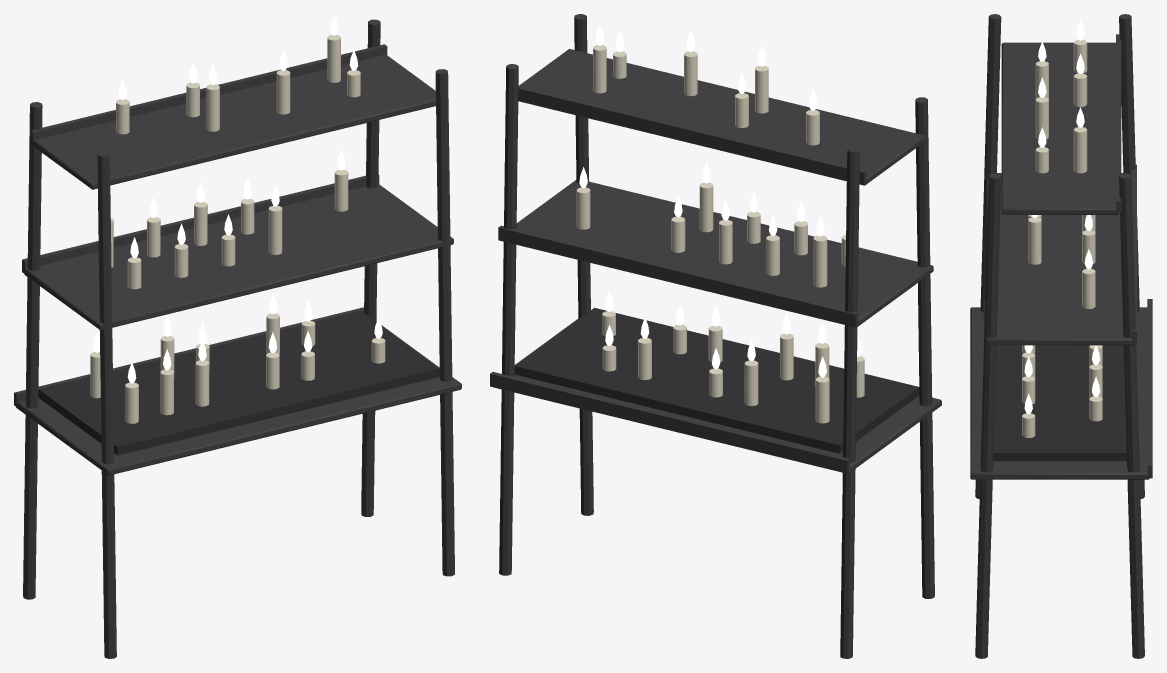
Rendered from chi_ceri.fbx.
3 views of the same model, side by side, from view 1: azimuth 30°, elevation 25°; view 2: azimuth 150°, elevation 25°; view 3: azimuth 270°, elevation 25° (orthographic). The views are drawn at different scales.
Visible parts, largest first — view 1: chi_ceri_ferro, chi_ceri_scuro, chi_ceri_cera, chi_ceri_fiamma; view 2: chi_ceri_ferro, chi_ceri_scuro, chi_ceri_cera, chi_ceri_fiamma; view 3: chi_ceri_ferro, chi_ceri_scuro, chi_ceri_cera, chi_ceri_fiamma.
Boxes of the visible parts, x1,y1,x2,y2 form: chi_ceri_ferro: (14,19,461,658); chi_ceri_scuro: (38,311,439,455); chi_ceri_cera: (90,35,385,423); chi_ceri_fiamma: (93,14,382,383); chi_ceri_ferro: (490,14,941,658); chi_ceri_scuro: (514,307,919,453); chi_ceri_cera: (576,45,864,423); chi_ceri_fiamma: (579,24,861,377); chi_ceri_ferro: (970,14,1152,658); chi_ceri_scuro: (983,301,1126,461); chi_ceri_cera: (1022,39,1102,437); chi_ceri_fiamma: (1024,20,1100,414).
Bounding box in the file's own units: 0.88 × 1.28 × 0.406.
